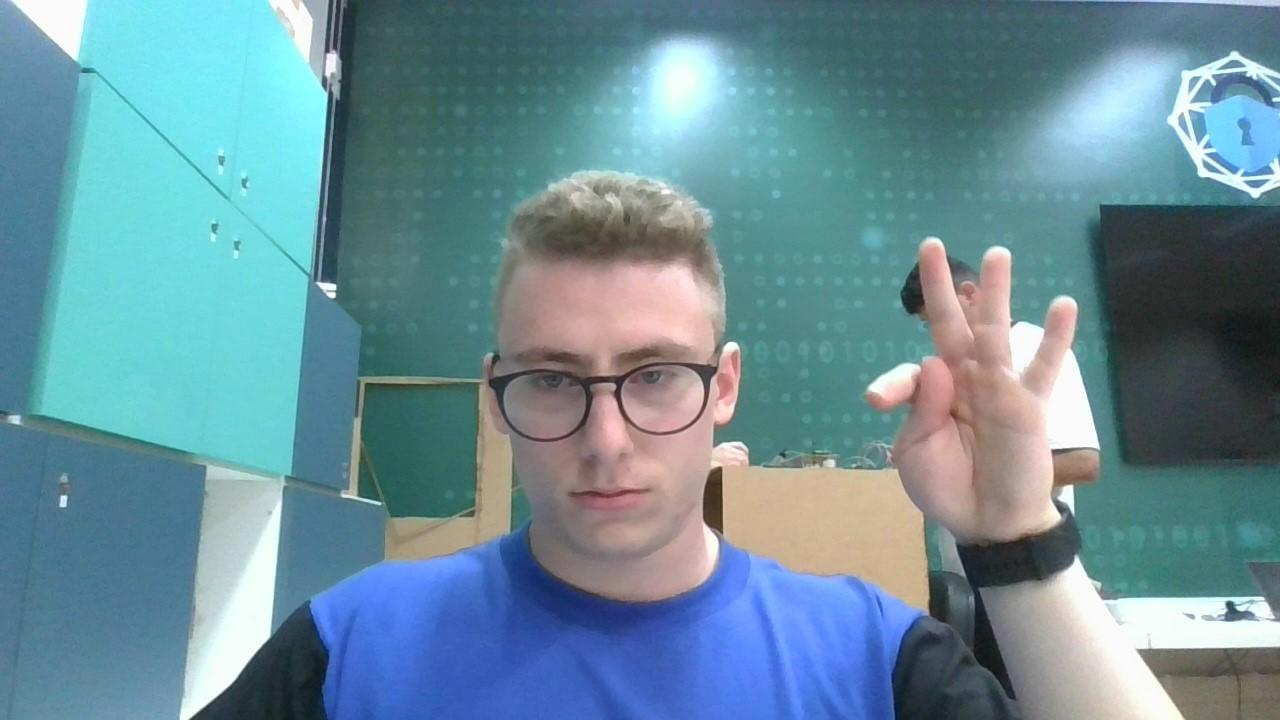T: (856, 238, 1080, 542)
